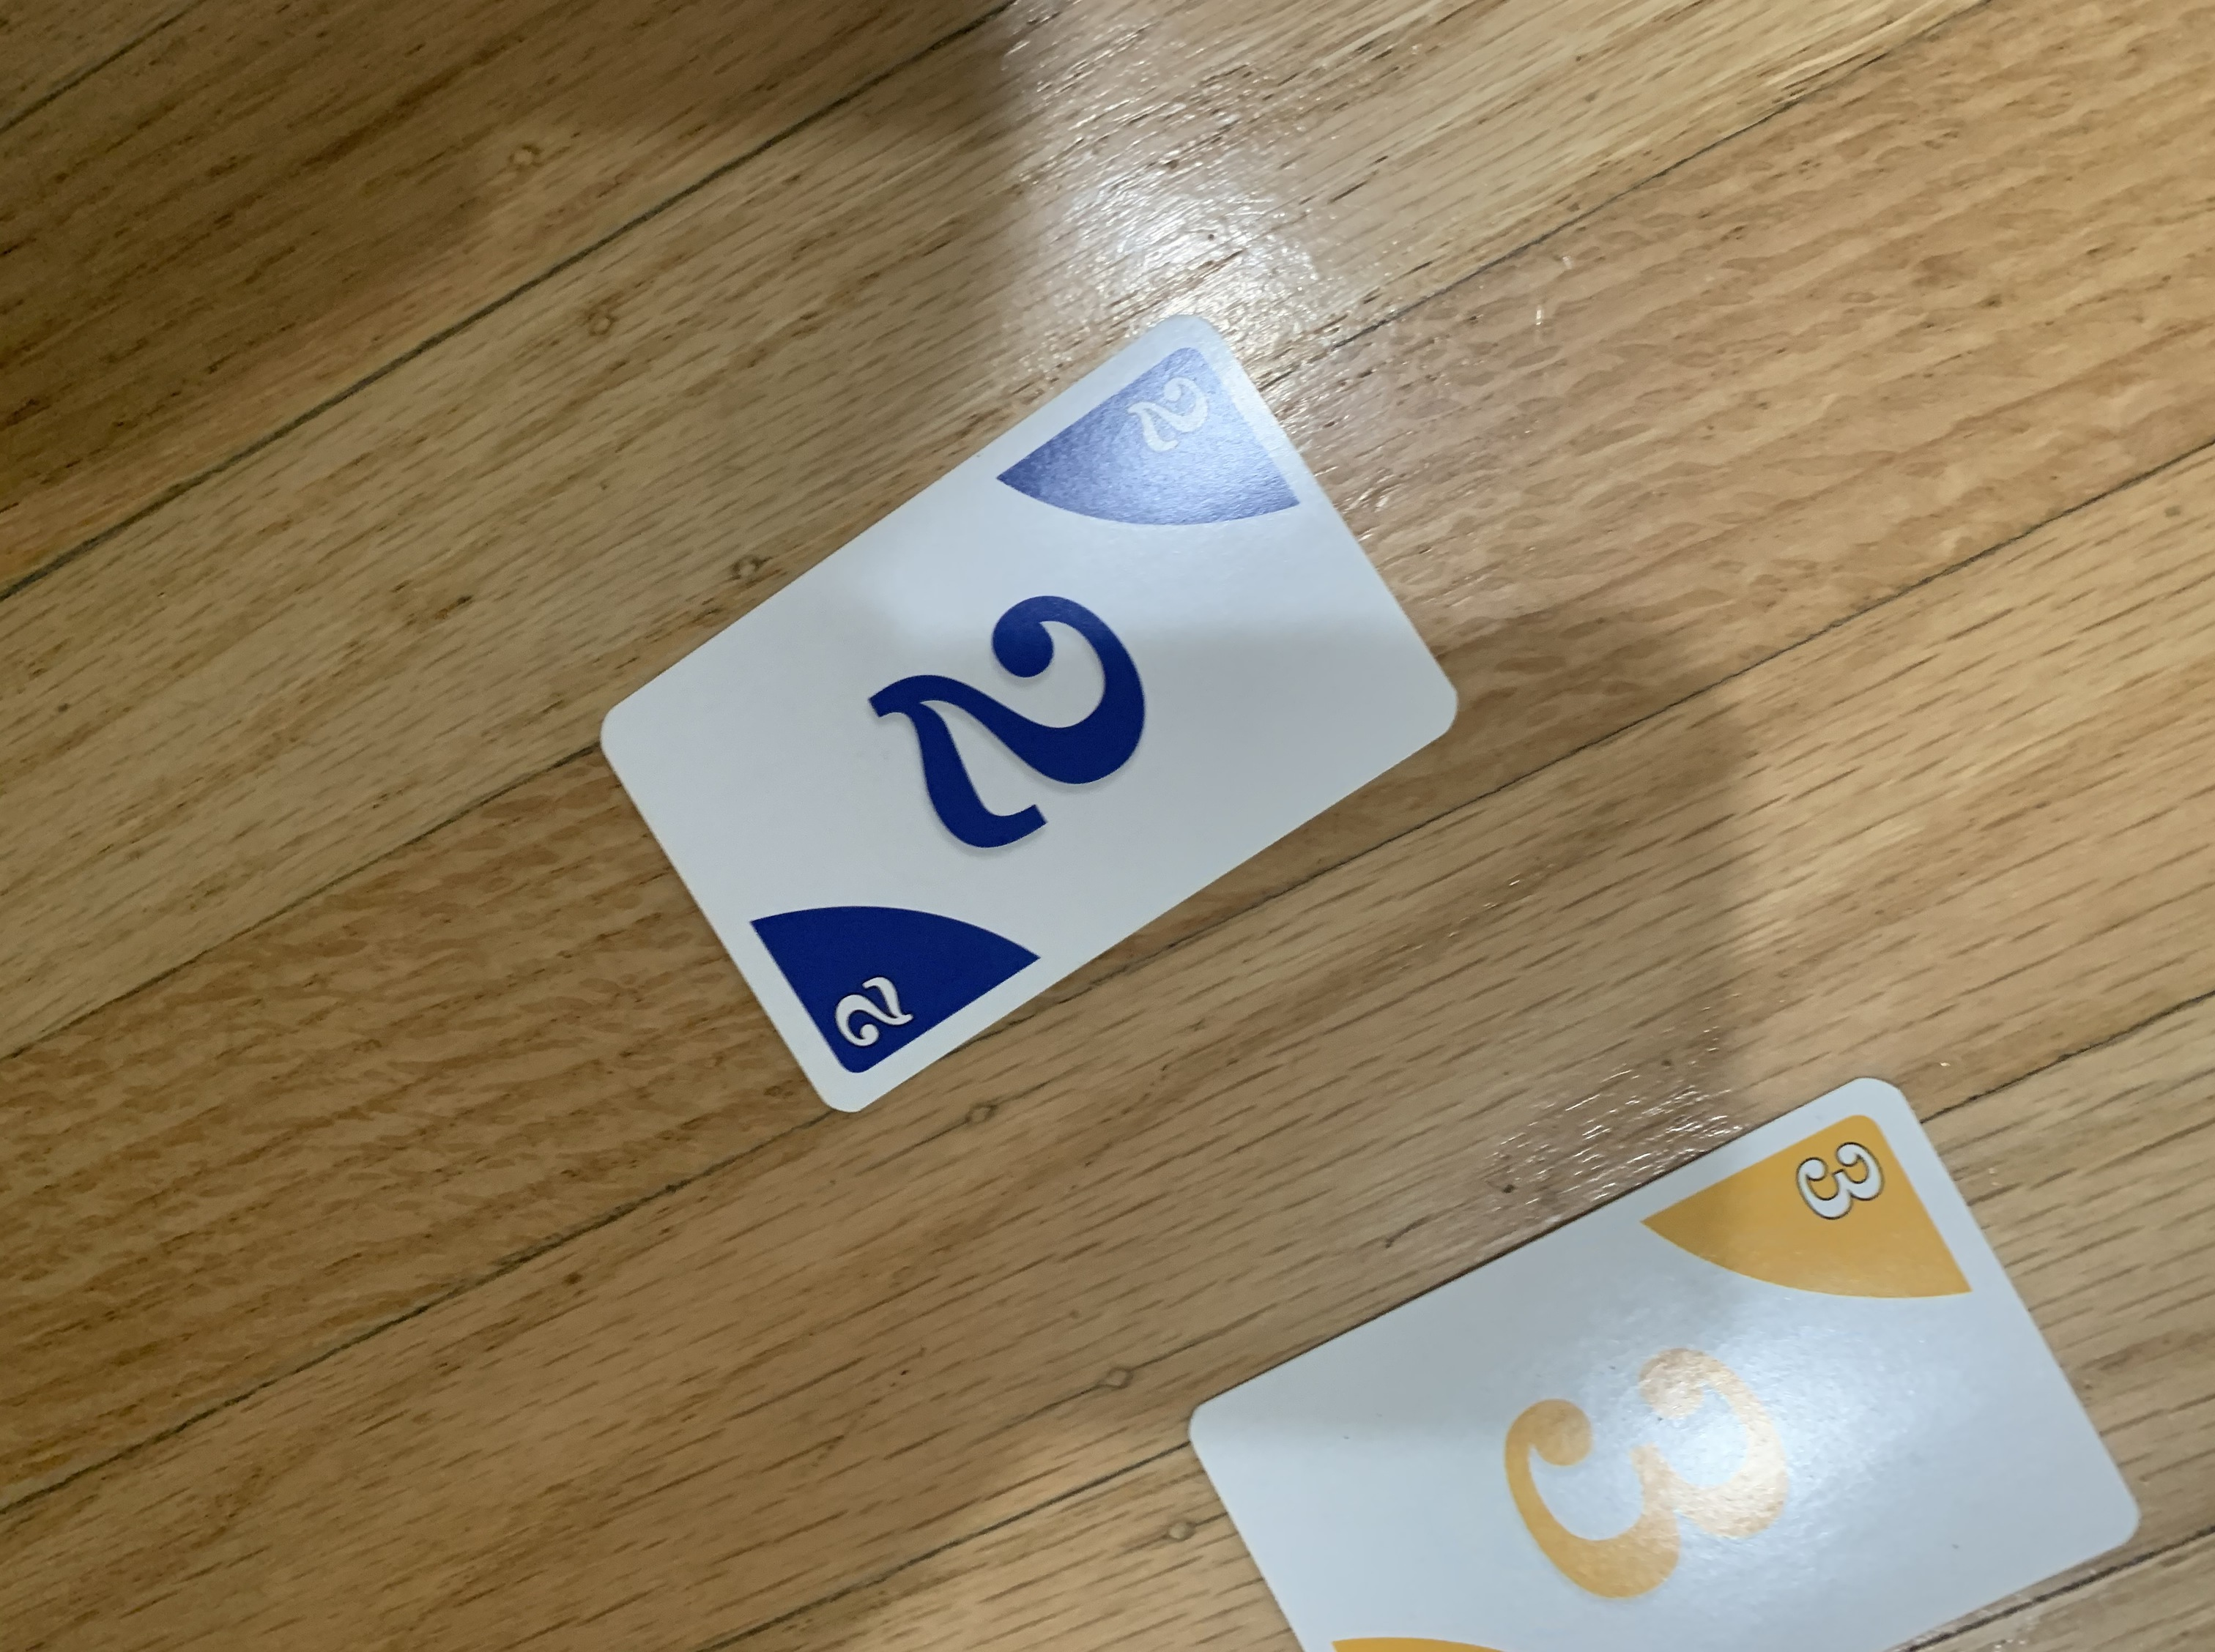three: (1149, 1065, 2158, 1652)
two: (555, 300, 1474, 1121)
